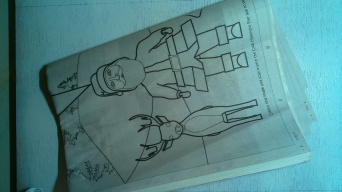p: (39, 2, 318, 192)
